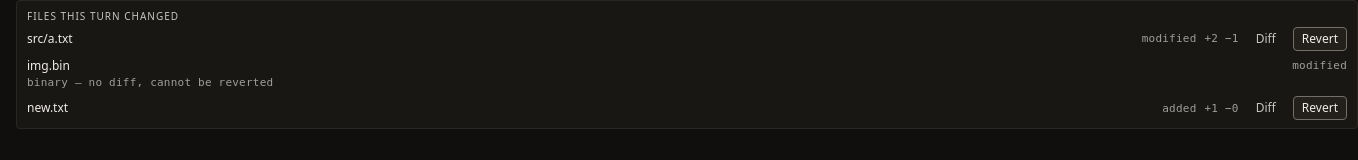
it: TurnDiffPanel › lists the files with counts and reverts exactly one
Expected: the text "src/a.txt" is shown, [27,30,73,47]
Expected: the text "+2 −1" is shown, [1204,31,1239,47]
Click the button with aria-label "Revert src/a.txt" at (1320, 39), box [1293,27,1347,51]
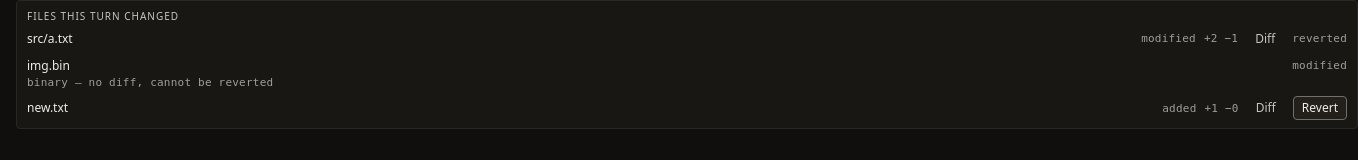
Expected: the button with aria-label "Revert new.txt" is shown, [1293,96,1347,120]
Expected: the text "reverted" is shown, [1292,31,1347,47]
